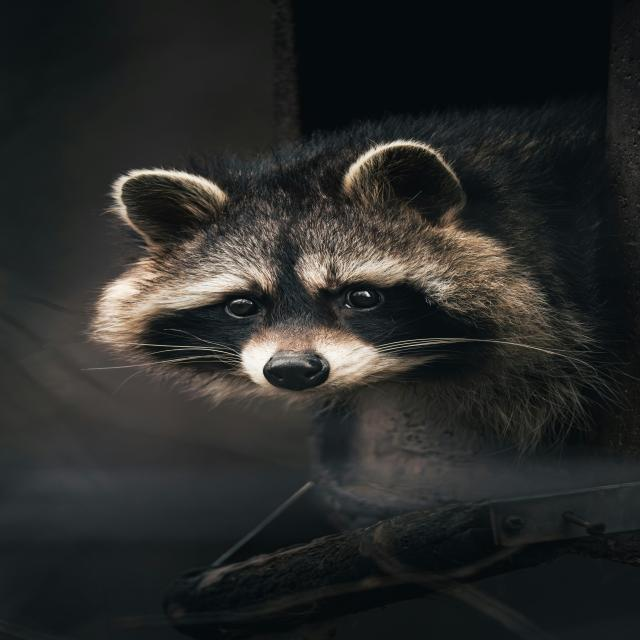Raccoon: (93, 128, 637, 569)
